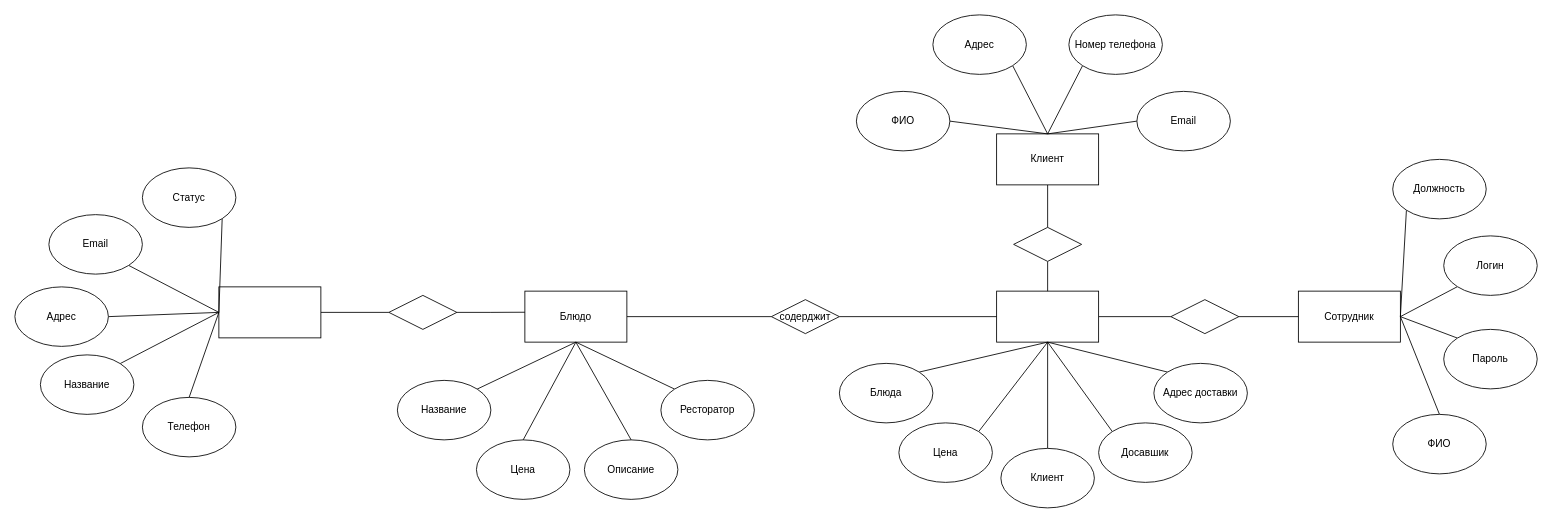
This 1552x523 diagram has some shape labels left out. The box of each missing label's shape, as (x1, y1, x2, y2) in pixels:
Выполняет: (1170, 299, 1239, 334)
готовит: (388, 295, 457, 329)
Заказ: (996, 290, 1099, 342)
Заказывает: (1013, 227, 1082, 261)
Ресторан: (218, 286, 321, 338)
